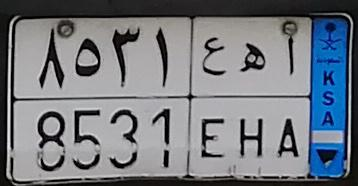1: (151, 26, 172, 170)
3: (108, 25, 140, 170)
5: (72, 36, 102, 171)
8: (33, 26, 68, 173)
A: (276, 35, 301, 159)
E: (199, 36, 228, 159)
H: (238, 42, 267, 160)
